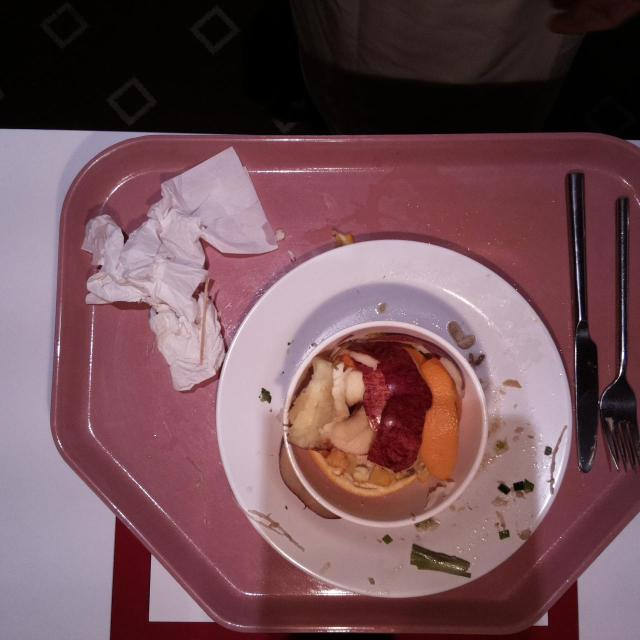Apple-core: (288, 355, 338, 451)
Apple-peel: (362, 342, 428, 472)
Orange-peel: (422, 355, 460, 481)
Vegetable: (408, 543, 472, 579)
